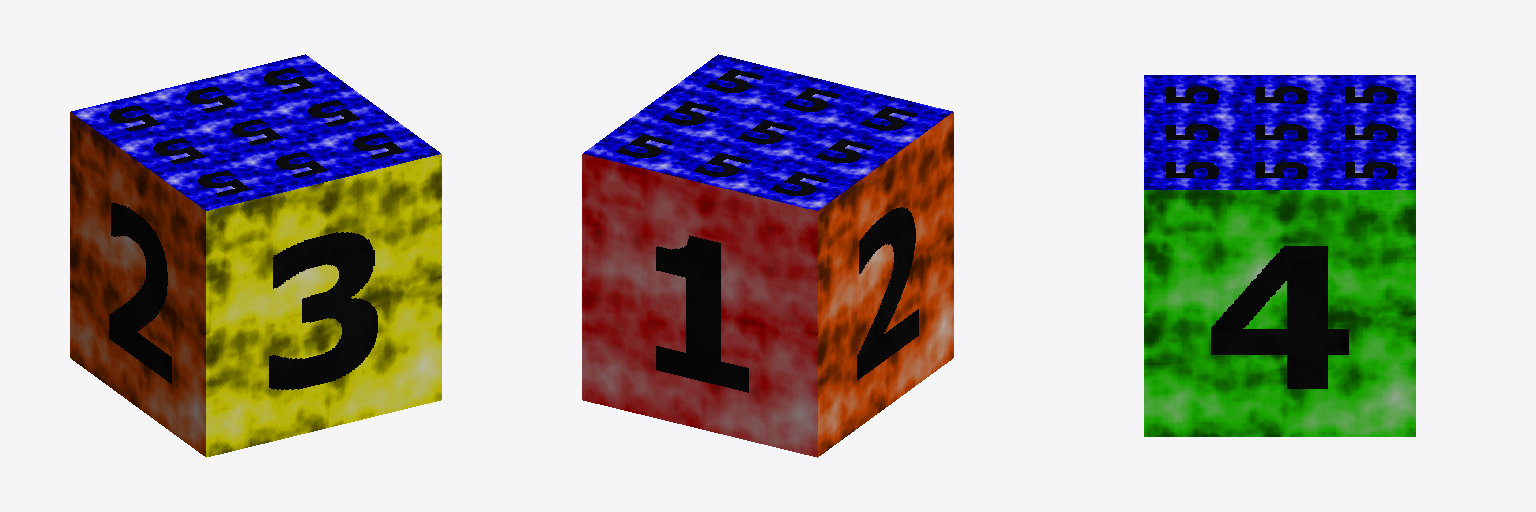
The picture shows the model from 3 angles: view 1: azimuth 30°, elevation 25°; view 2: azimuth 150°, elevation 25°; view 3: azimuth 270°, elevation 25°; orthographic projection.
Parts seen in each view (by area): view 1: seamless_cube; view 2: seamless_cube; view 3: seamless_cube.
Part boxes in pixels (x1,y1,x2,y2): seamless_cube: (70,54,441,457); seamless_cube: (582,54,953,457); seamless_cube: (1144,75,1415,436).
Bounding box in the file's own units: 2 × 2 × 2.
6 materials, 6 textured.